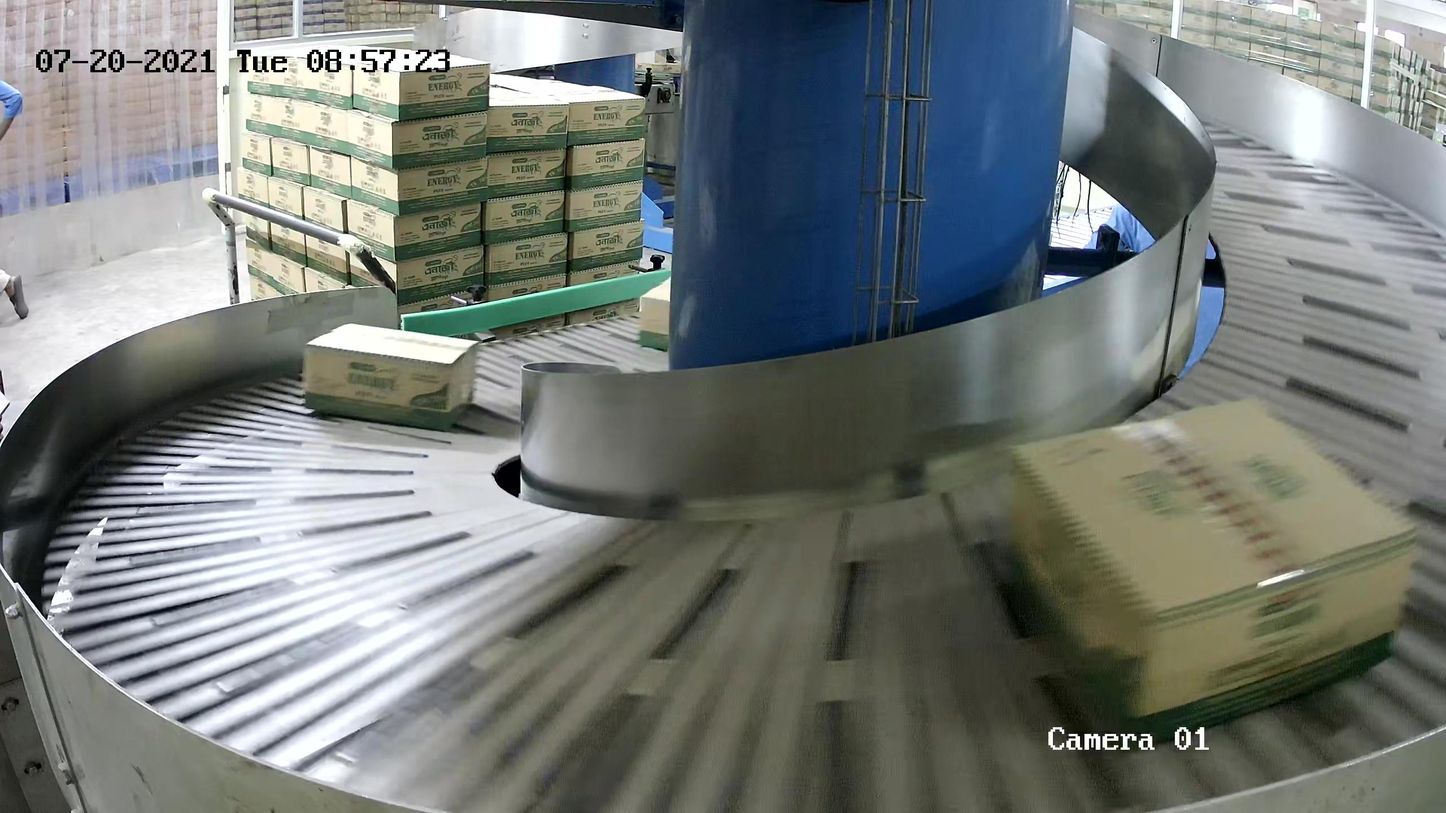Box: (1001, 394, 1423, 749), (301, 322, 480, 431), (639, 276, 671, 351)
